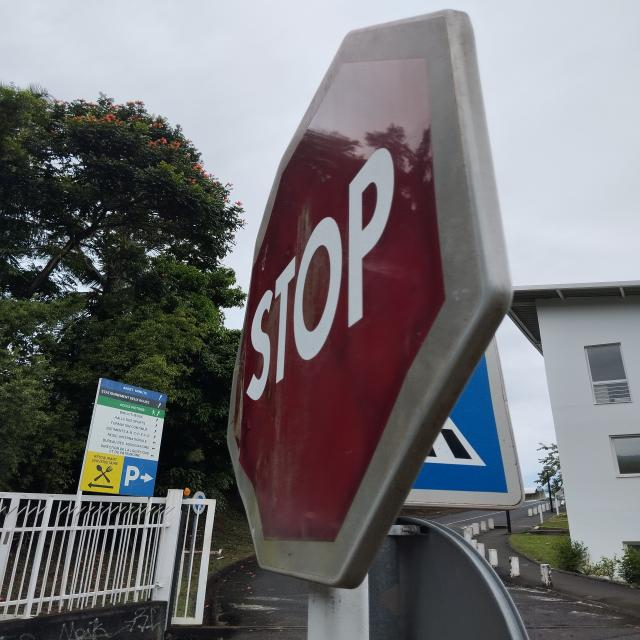Panneau-Stop: (230, 11, 518, 579)
